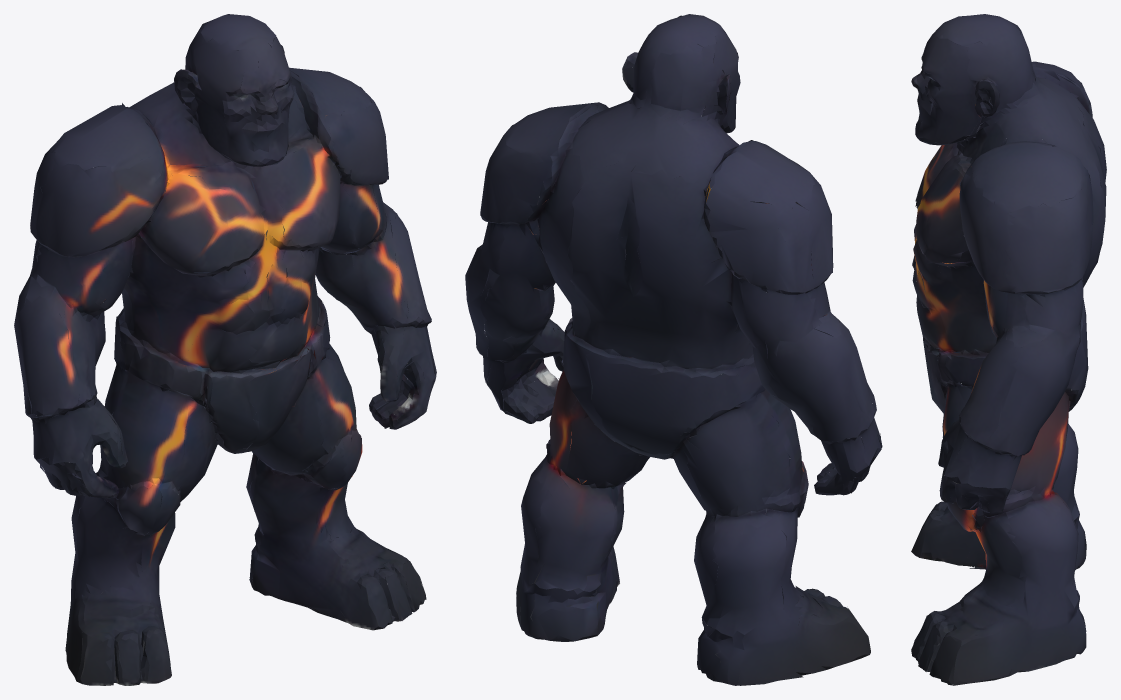
The model's file is Forge_Golem.glb.
3 renders of one model, left to right at view 1: azimuth 30°, elevation 25°; view 2: azimuth 150°, elevation 25°; view 3: azimuth 270°, elevation 25°, orthographic. The views are drawn at different scales.
Parts seen in each view (by area): view 1: Forge_Golem; view 2: Forge_Golem; view 3: Forge_Golem.
Boxes of the visible parts, left/top/right/bottom form: Forge_Golem: left=14, top=14, right=436, bottom=685; Forge_Golem: left=465, top=14, right=882, bottom=685; Forge_Golem: left=911, top=14, right=1106, bottom=685.
Bounding box in the file's own units: 2.17 × 3.21 × 0.9712.
1 material, 1 textured.
